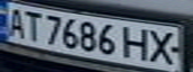6: (96, 21, 121, 56), (57, 16, 81, 50)
7: (39, 12, 63, 45)
8: (75, 19, 100, 53)
A: (0, 4, 30, 38)
H: (121, 25, 154, 61)
T: (18, 8, 45, 42)
X: (145, 27, 184, 65)
